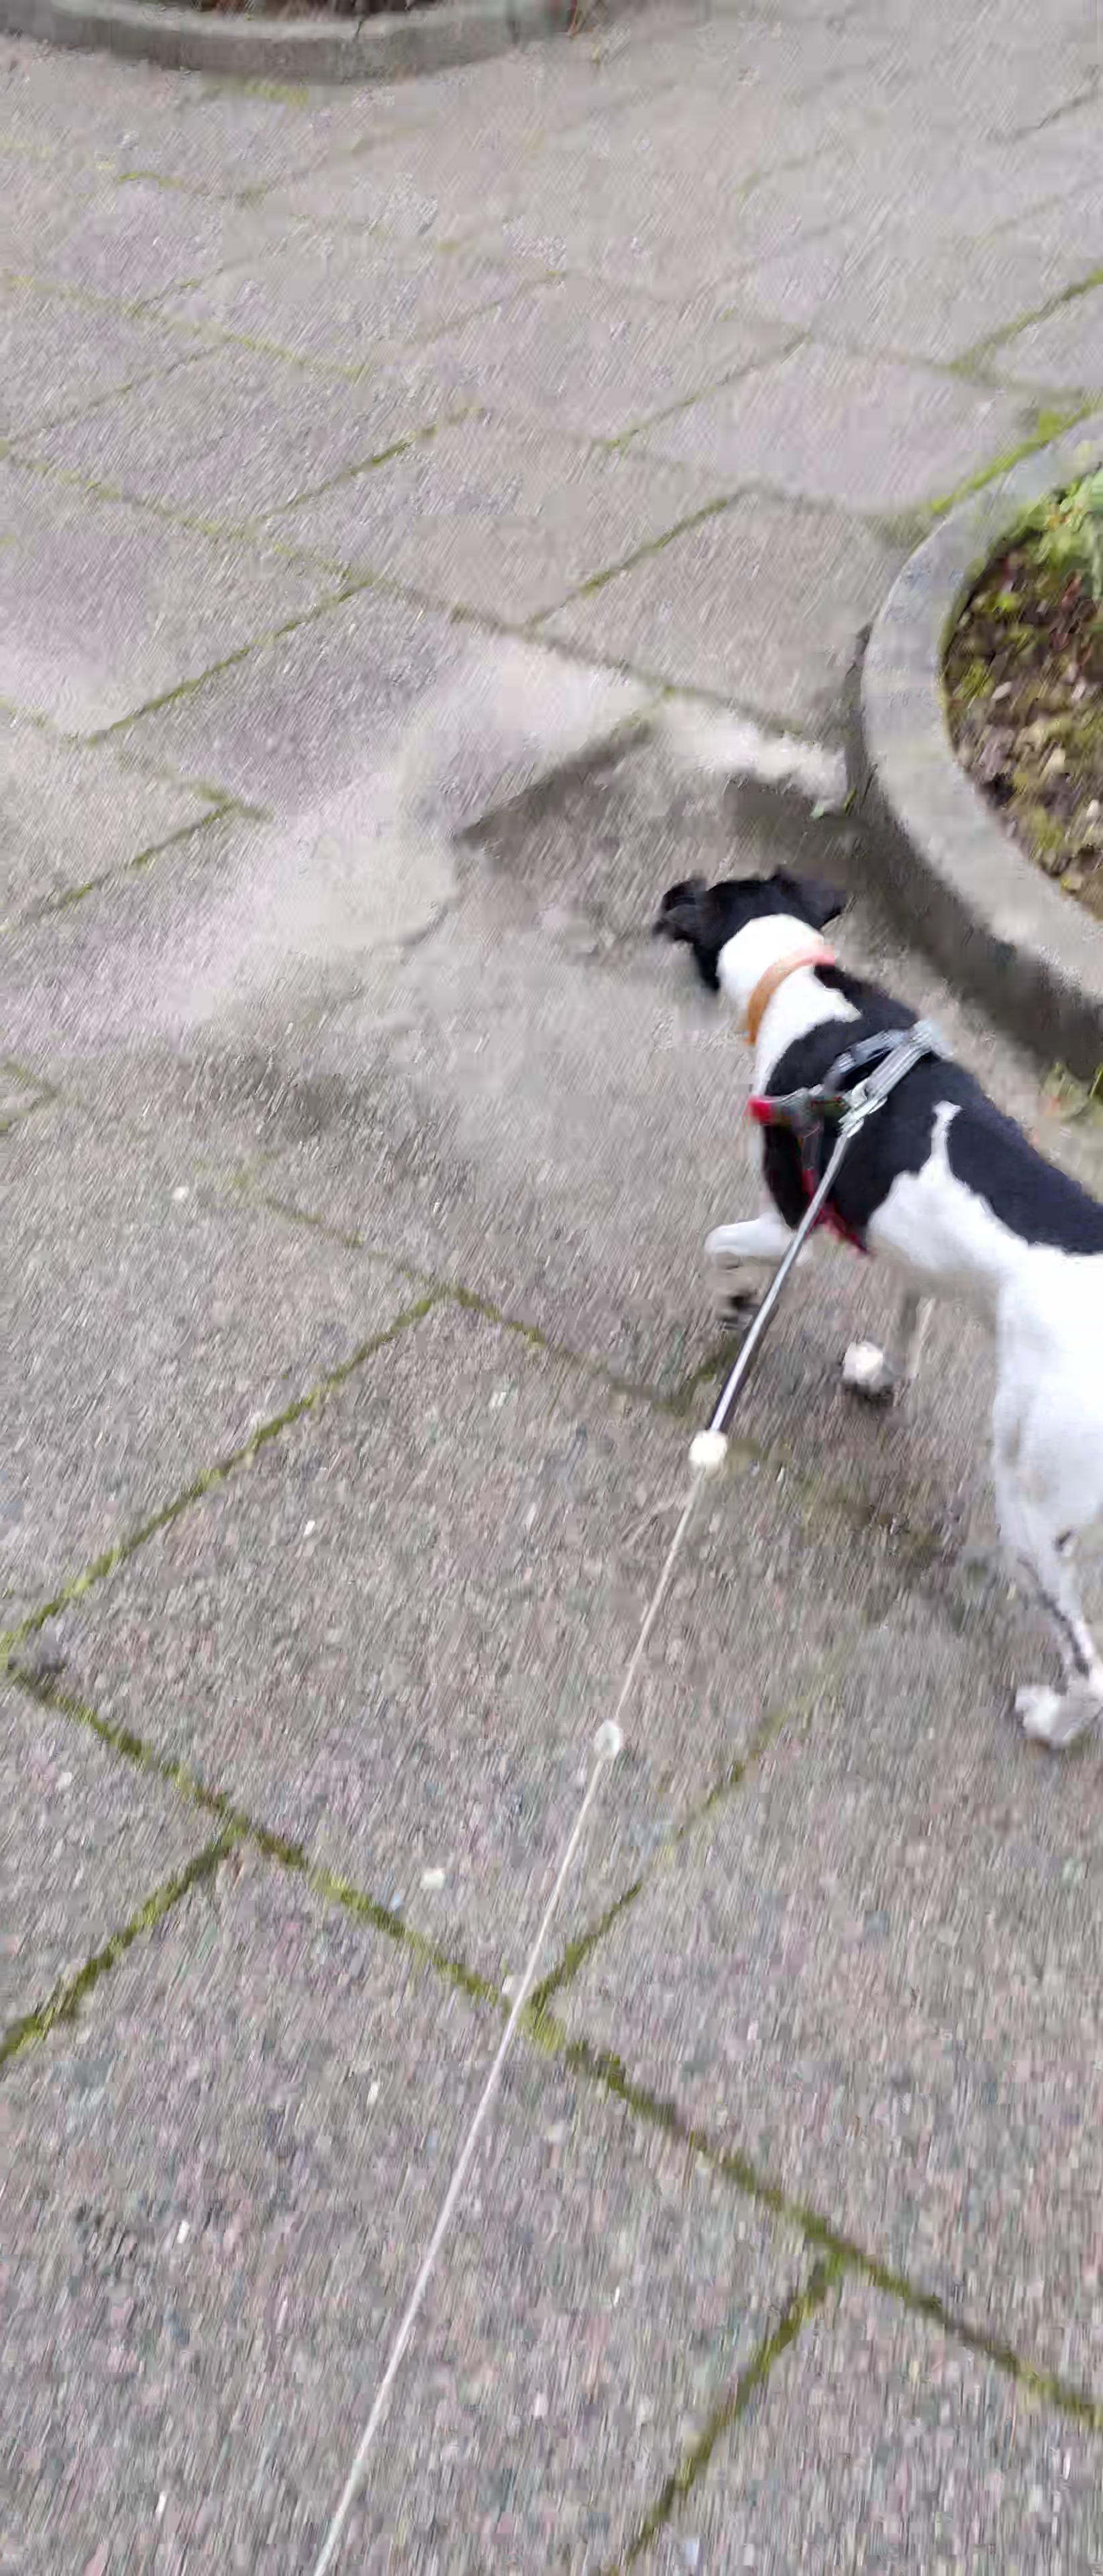Dog: (638, 858, 1103, 1768)
